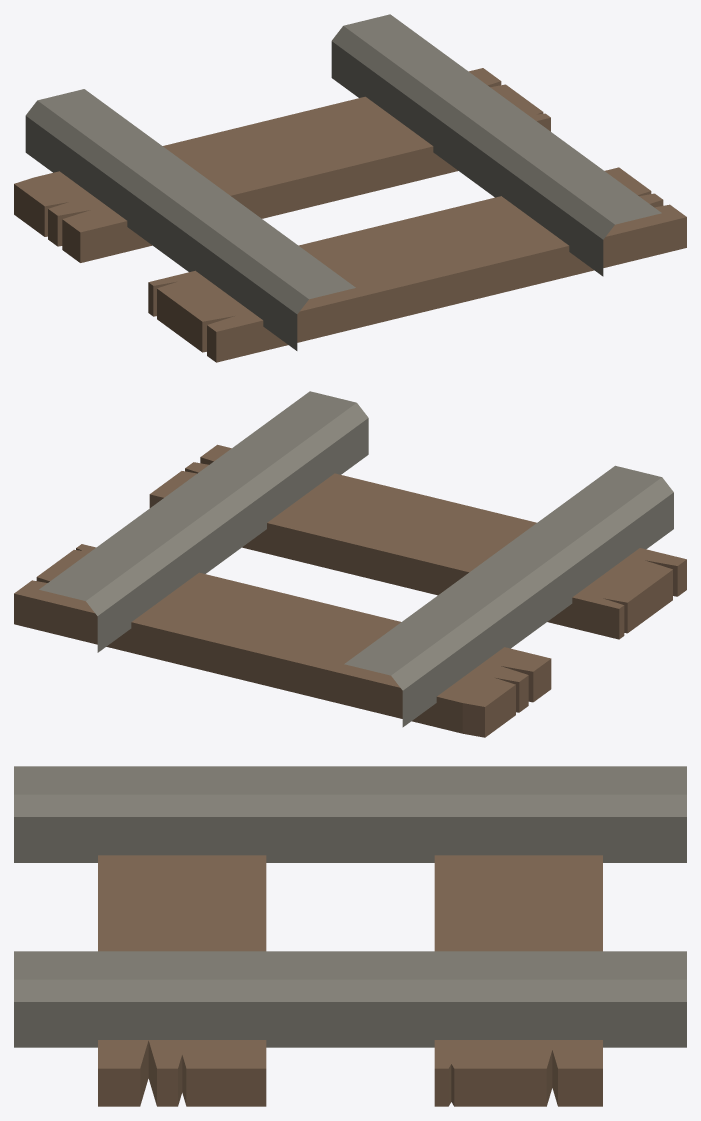
The model's file is Cave_Prop_Railway_Straight_1.glb.
3 renders of one model, top to bottom at view 1: azimuth 30°, elevation 25°; view 2: azimuth 150°, elevation 25°; view 3: azimuth 270°, elevation 25°, orthographic. The views are drawn at different scales.
Parts seen in each view (by area): view 1: Cave_Prop_Railway_Straight_1; view 2: Cave_Prop_Railway_Straight_1; view 3: Cave_Prop_Railway_Straight_1.
Boxes of the visible parts, x1,y1,x2,y2 form: Cave_Prop_Railway_Straight_1: [14, 14, 686, 362]; Cave_Prop_Railway_Straight_1: [14, 391, 686, 737]; Cave_Prop_Railway_Straight_1: [14, 766, 686, 1106].
Bounding box in the file's own units: 1 × 0.15 × 1.
